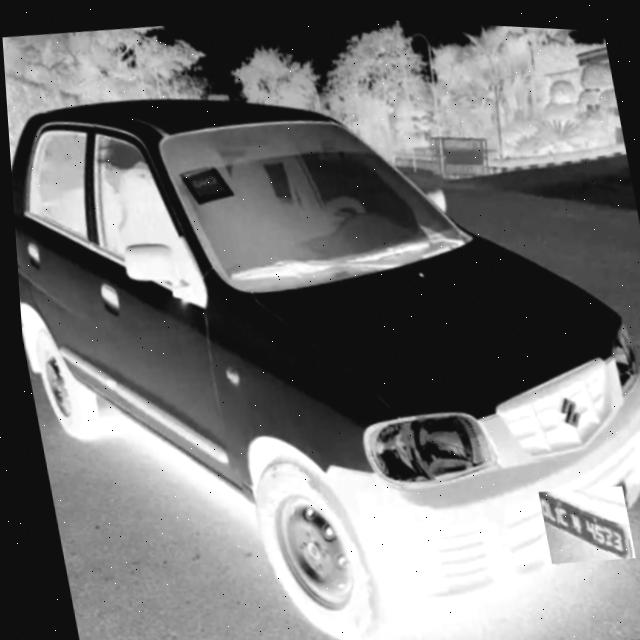Non_registered: (531, 476, 628, 561)
